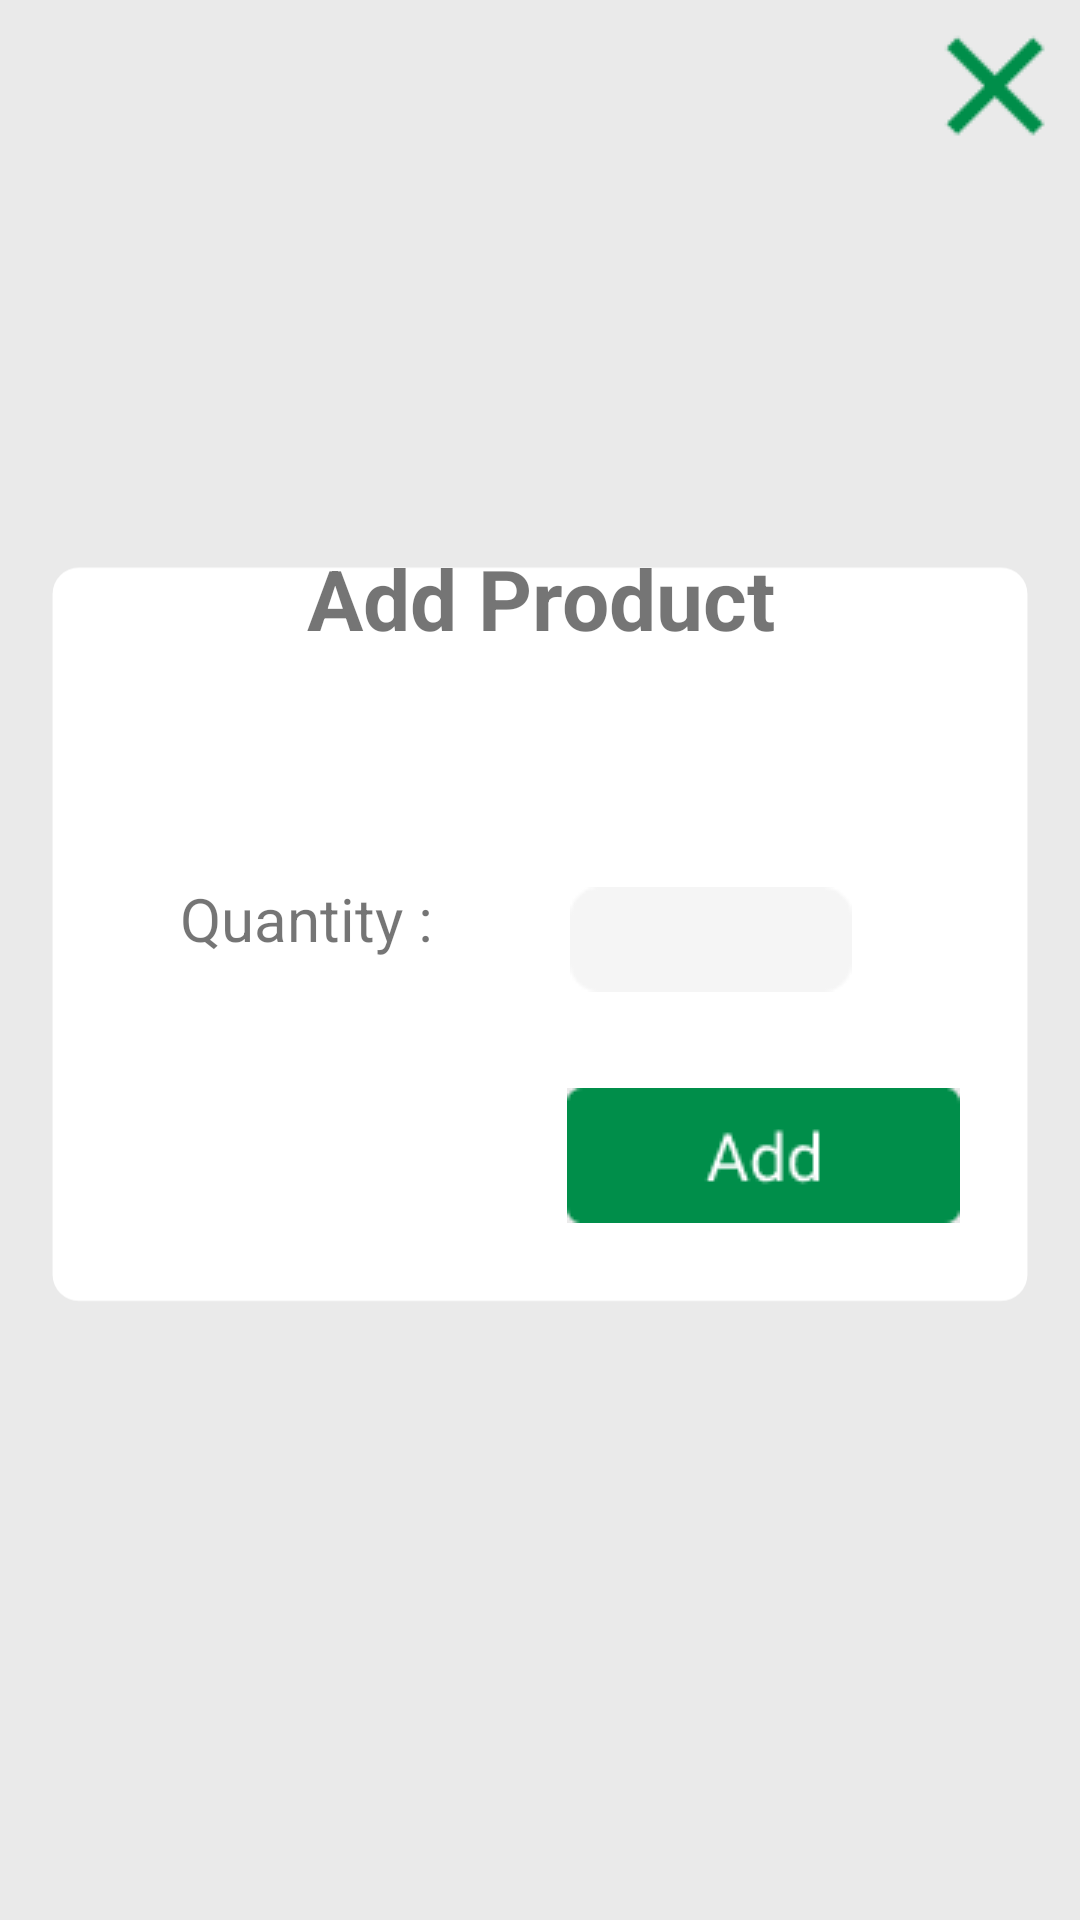

Icon bounding boxes for this 1080x1920 phone screenshot, format [x1,y1,x2,y2]:
cross: [946,37,1045,136]
